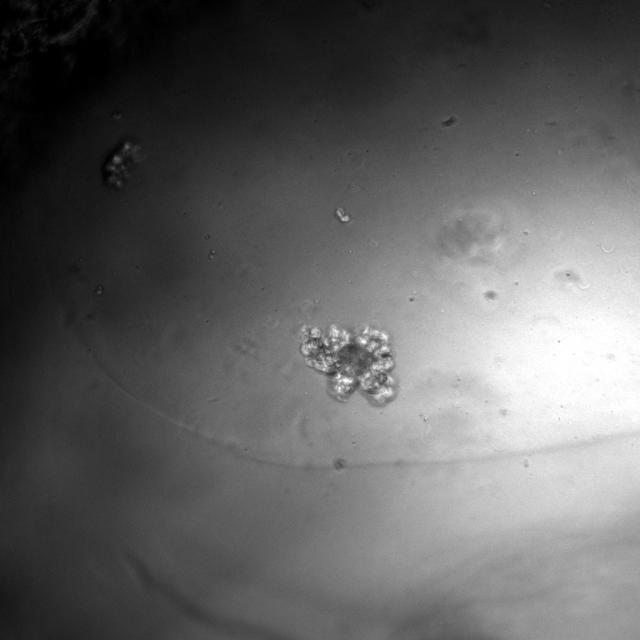organoid: (300, 325, 394, 403), (102, 138, 142, 188), (334, 207, 349, 222)
